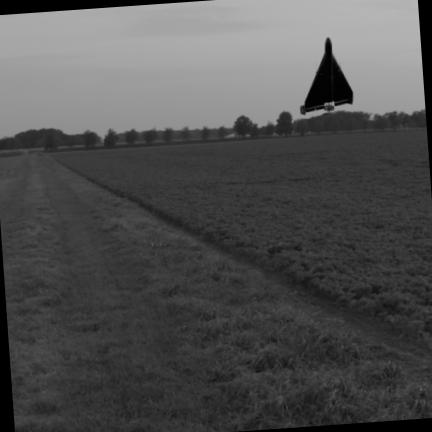Shahed: (300, 38, 352, 114)
